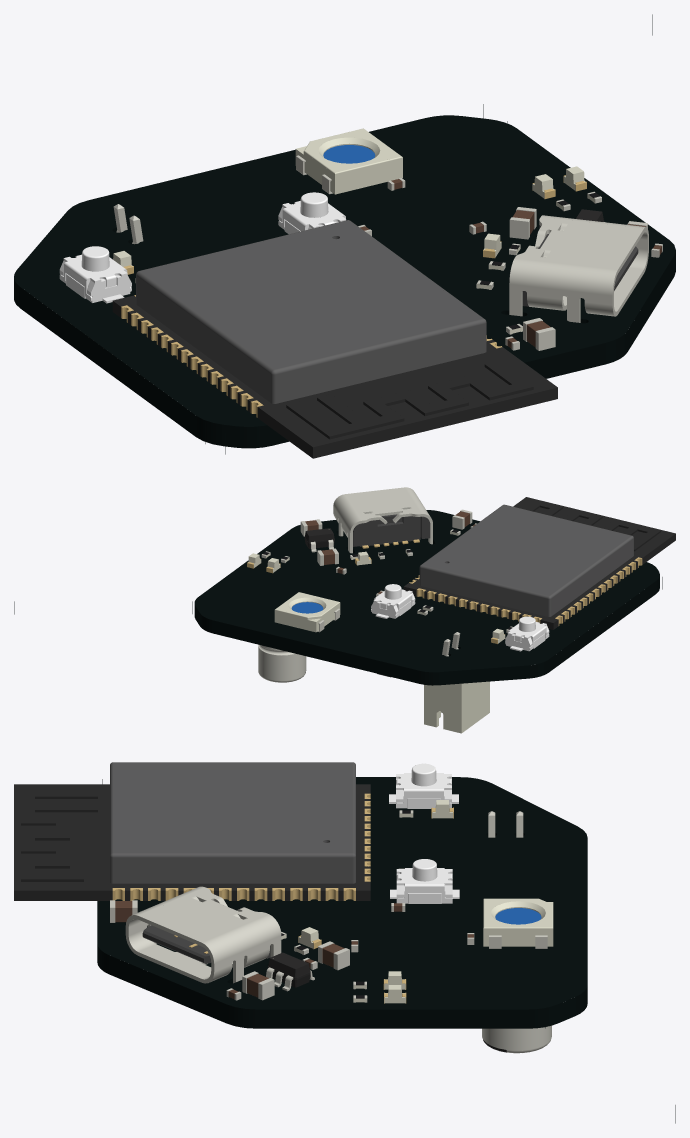
The model's file is hallfx-module-compressed.glb.
3 renders of one model, top to bottom at view 1: azimuth 30°, elevation 25°; view 2: azimuth 150°, elevation 25°; view 3: azimuth 270°, elevation 25°, orthographic. The views are drawn at different scales.
Parts seen in each view (by area): view 1: HAL424E_PCB_1_4, ESP32-S3-WROOM-1_493, ESP32-S3-WROOM-1_34, ESP32-S3-WROOM-1_481, ESP32-S3-WROOM-1_29, ESP32-S3-WROOM-1_487, HAL424E_PCB_1_11, ESP32-S3-WROOM-1_30, USB_C_Receptacle_GCT_USB4125-xx-x_6P_TopMnt_Horizontal_67, USB_C_Receptacle_GCT_USB4125-xx-x_6P_TopMnt_Horizontal_66, USB_C_Receptacle_GCT_USB4125-xx-x_6P_TopMnt_Horizontal_236, HAL424E_PCB_1_16 (+10 smaller); view 2: HAL424E_PCB_1_4, ESP32-S3-WROOM-1_493, HAL424E_PCB_1_1, ESP32-S3-WROOM-1_34, ESP32-S3-WROOM-1_490, JST_B2B_PH_K_1, ESP32-S3-WROOM-1_487, HAL424E_PCB_1_11, HAL424E_PCB_1_7, CP_Elec_5x53_25, JST_B2B_PH_K_2, ESP32-S3-WROOM-1_29 (+9 smaller); view 3: HAL424E_PCB_1_4, ESP32-S3-WROOM-1_493, ESP32-S3-WROOM-1_34, ESP32-S3-WROOM-1_486, HAL424E_PCB_1_8, ESP32-S3-WROOM-1_29, HAL424E_PCB_1_12, USB_C_Receptacle_GCT_USB4125-xx-x_6P_TopMnt_Horizontal_237, USB_C_Receptacle_GCT_USB4125-xx-x_6P_TopMnt_Horizontal_236, USB_C_Receptacle_GCT_USB4125-xx-x_6P_TopMnt_Horizontal_66, CP_Elec_5x53_25, ESP32-S3-WROOM-1_494 (+8 smaller).
Boxes of the visible parts, bbox=[...] form: HAL424E_PCB_1_4: bbox=[14, 115, 675, 426]; ESP32-S3-WROOM-1_493: bbox=[140, 220, 482, 369]; ESP32-S3-WROOM-1_34: bbox=[113, 295, 557, 447]; ESP32-S3-WROOM-1_481: bbox=[276, 324, 484, 403]; ESP32-S3-WROOM-1_29: bbox=[287, 361, 533, 436]; ESP32-S3-WROOM-1_487: bbox=[136, 276, 270, 402]; HAL424E_PCB_1_11: bbox=[20, 287, 195, 436]; ESP32-S3-WROOM-1_30: bbox=[313, 387, 557, 458]; USB_C_Receptacle_GCT_USB4125-xx-x_6P_TopMnt_Horizontal_67: bbox=[509, 258, 617, 295]; USB_C_Receptacle_GCT_USB4125-xx-x_6P_TopMnt_Horizontal_66: bbox=[515, 239, 630, 269]; USB_C_Receptacle_GCT_USB4125-xx-x_6P_TopMnt_Horizontal_236: bbox=[539, 217, 643, 249]; HAL424E_PCB_1_16: bbox=[272, 343, 605, 445]; HAL424E_PCB_1_4: bbox=[194, 510, 659, 672]; ESP32-S3-WROOM-1_493: bbox=[422, 505, 630, 595]; HAL424E_PCB_1_1: bbox=[213, 620, 419, 683]; ESP32-S3-WROOM-1_34: bbox=[404, 497, 675, 622]; ESP32-S3-WROOM-1_490: bbox=[421, 568, 547, 616]; JST_B2B_PH_K_1: bbox=[424, 683, 461, 733]; ESP32-S3-WROOM-1_487: bbox=[551, 539, 633, 616]; HAL424E_PCB_1_11: bbox=[548, 581, 656, 672]; HAL424E_PCB_1_7: bbox=[439, 665, 528, 685]; CP_Elec_5x53_25: bbox=[258, 647, 306, 680]; JST_B2B_PH_K_2: bbox=[461, 681, 489, 732]; ESP32-S3-WROOM-1_29: bbox=[524, 500, 660, 549]; HAL424E_PCB_1_4: bbox=[97, 777, 587, 1009]; ESP32-S3-WROOM-1_493: bbox=[113, 762, 352, 852]; ESP32-S3-WROOM-1_34: bbox=[14, 784, 370, 890]; ESP32-S3-WROOM-1_486: bbox=[113, 857, 352, 883]; HAL424E_PCB_1_8: bbox=[256, 1009, 528, 1028]; ESP32-S3-WROOM-1_29: bbox=[21, 790, 97, 879]; HAL424E_PCB_1_12: bbox=[109, 956, 226, 1023]; USB_C_Receptacle_GCT_USB4125-xx-x_6P_TopMnt_Horizontal_237: bbox=[202, 914, 281, 963]; USB_C_Receptacle_GCT_USB4125-xx-x_6P_TopMnt_Horizontal_236: bbox=[170, 906, 268, 942]; USB_C_Receptacle_GCT_USB4125-xx-x_6P_TopMnt_Horizontal_66: bbox=[138, 887, 224, 928]; CP_Elec_5x53_25: bbox=[482, 1025, 551, 1050]; ESP32-S3-WROOM-1_494: bbox=[113, 853, 352, 857].
Size of the model in its own units: 0.0554 by 0.0109 by 0.0473.
